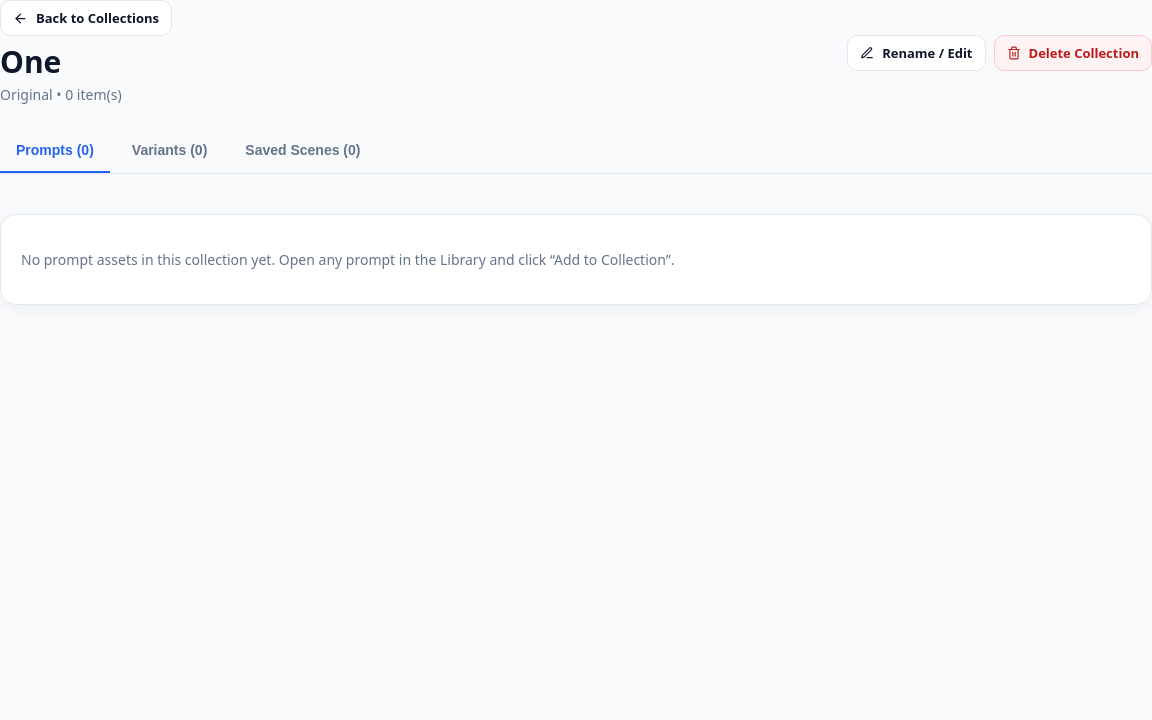
it: returns from cover picker to the retained editor draft on Escape
Click the button "Rename / Edit" at (916, 52), box [847,34,986,70]
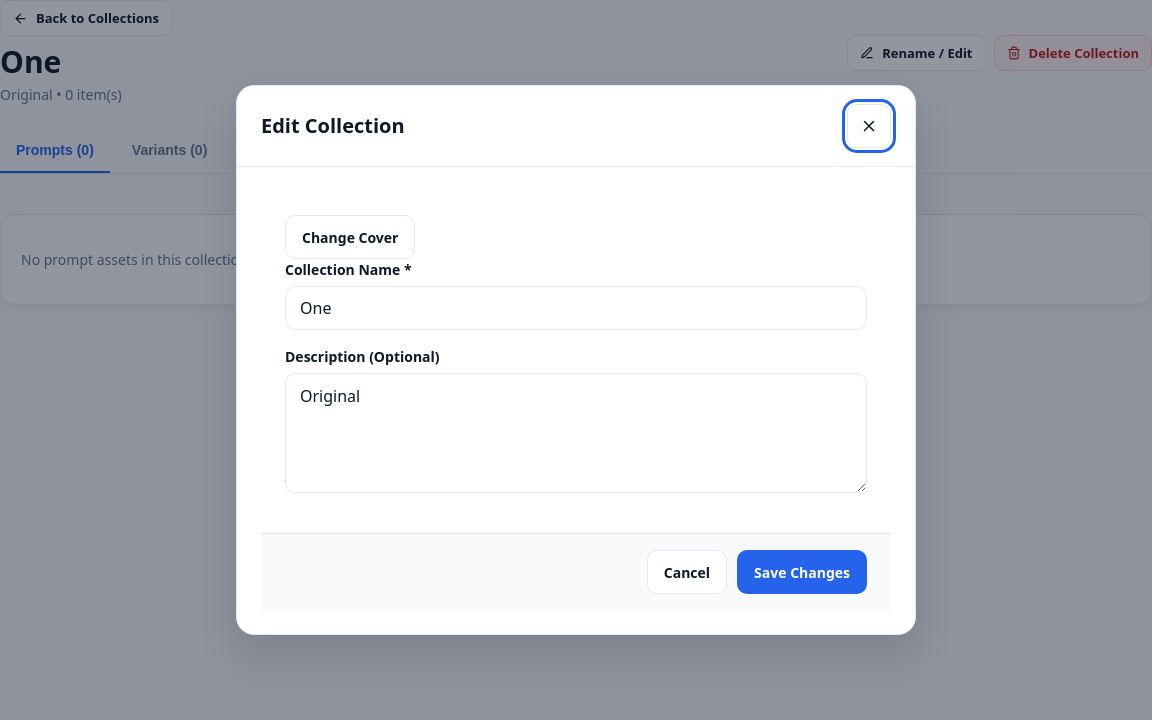
Replace the text in the field labelled "Collection Name *" with "Unsaved name" at (576, 308), box [285,286,867,330]
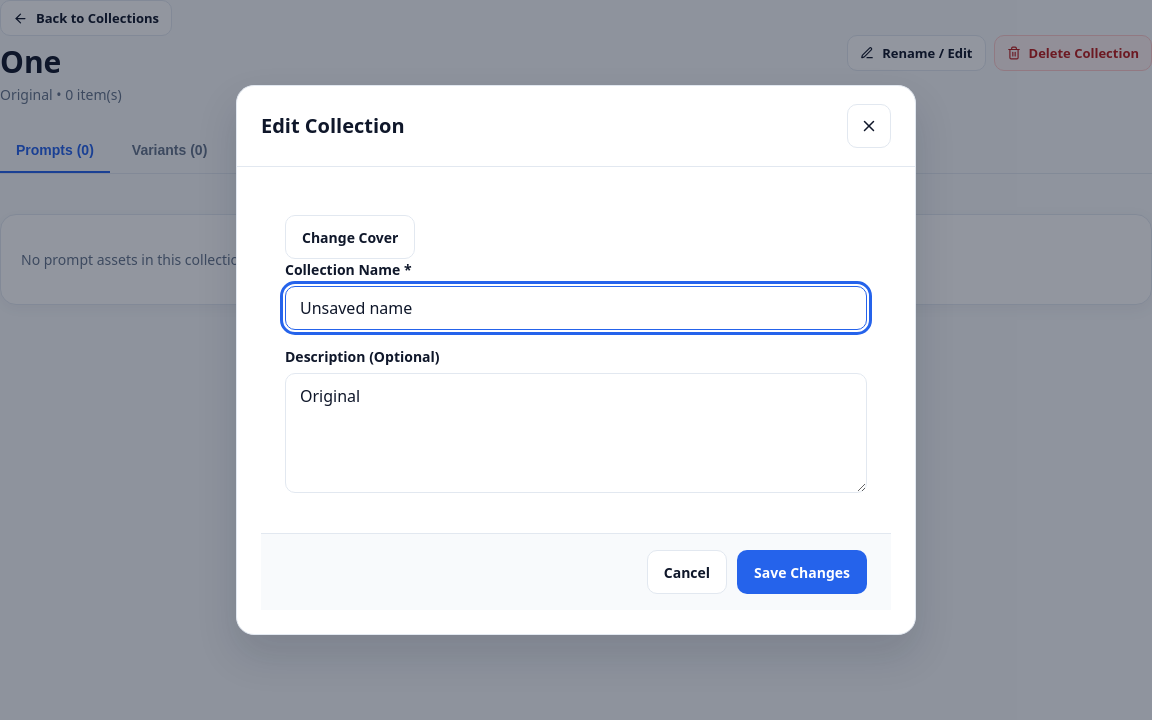
Click the button "Change Cover" at (350, 237), box [285,215,416,259]
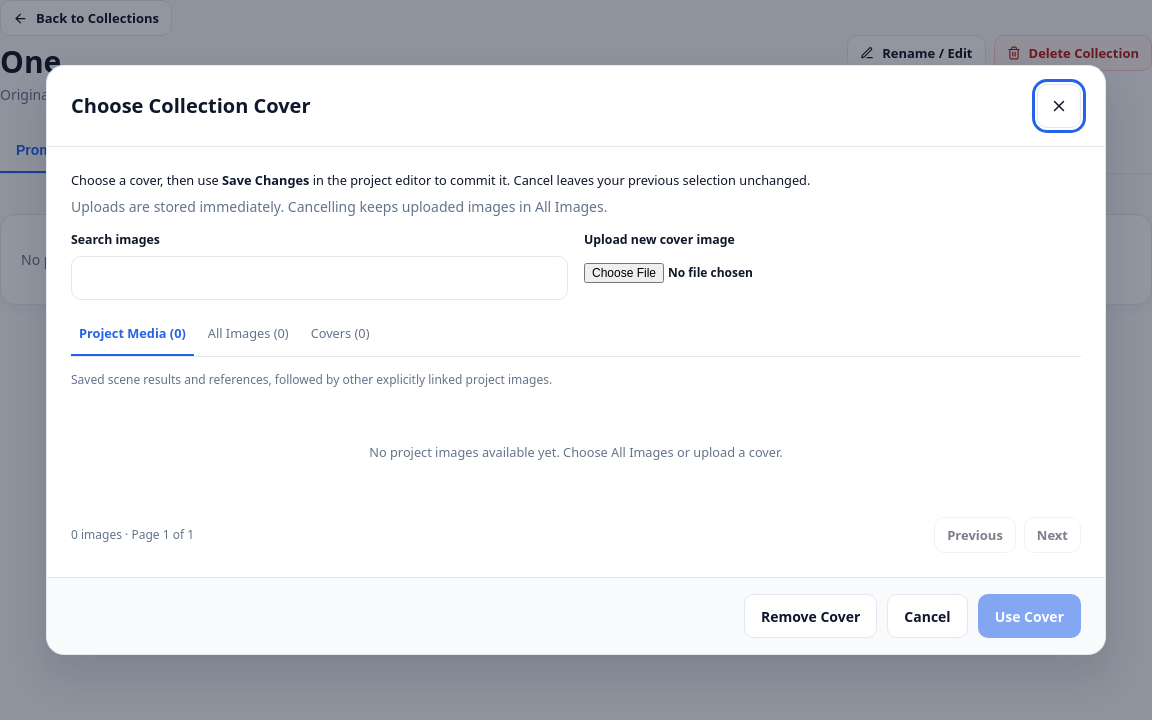
expect the number of dialogs is 1: met
Press Escape
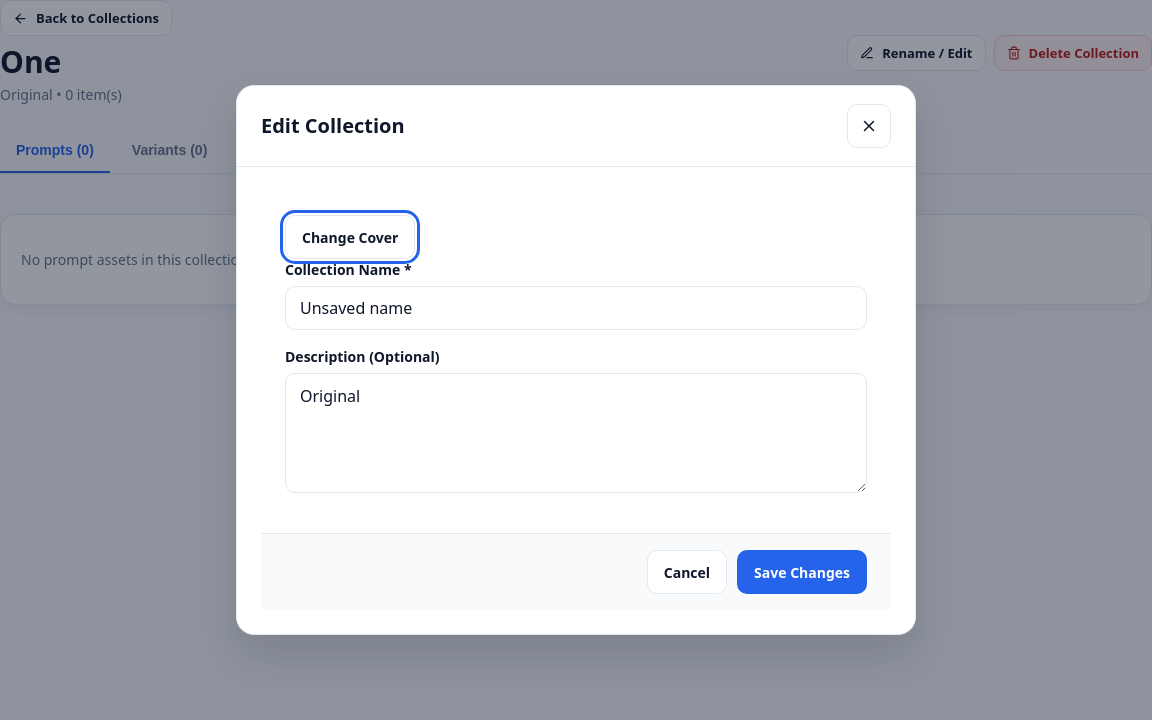
expect the dialog "Edit Collection" is shown: met, box [236,85,916,635]
expect the field labelled "Collection Name *" holds "Unsaved name": met, box [285,286,867,330]
